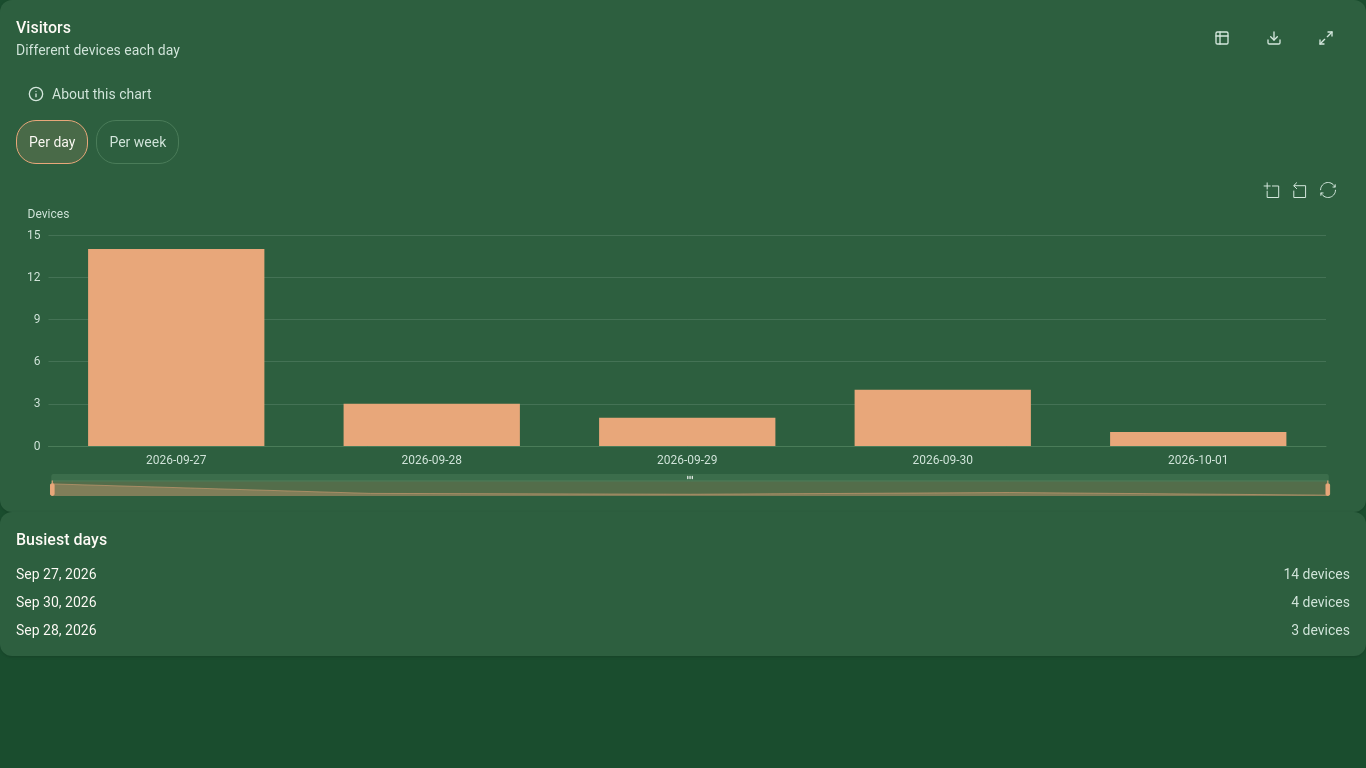
Test: VisitorsCard › charts devices per day with Table, CSV, fullscreen and an explainer, and lists the busiest days
The width and height of the screenshot is (1366, 768).
Expected: the button named "Table" is shown, [1198,16,1246,60]
Expected: the button named "CSV" is shown, [1250,16,1298,60]
Click the button "About this chart". click: {"x": 90, "y": 94}
box: [16,72,164,116]
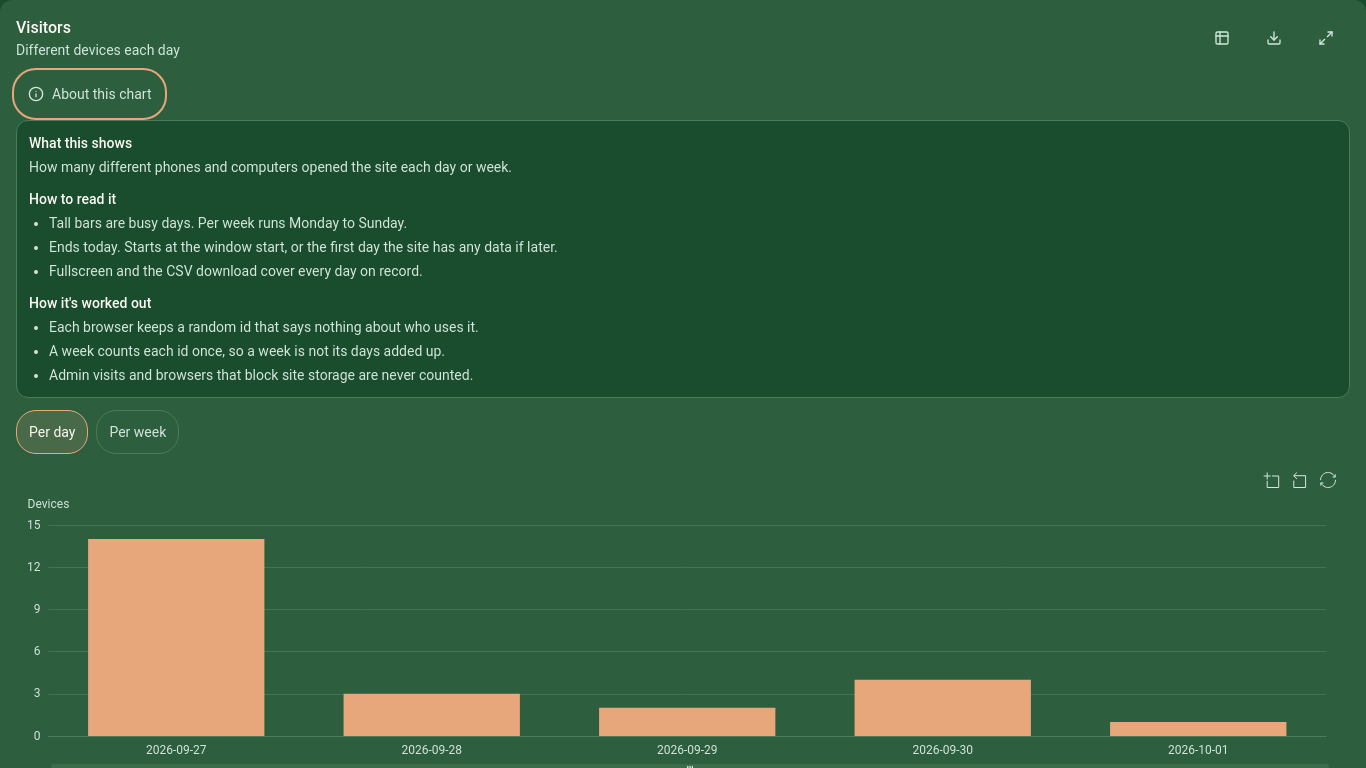
Result: the button "About this chart" is expanded
Result: the heading "What this shows" is shown at [29,135,132,151]
Result: the heading "How it's worked out" is shown at [29,295,151,311]
Click the button "About this chart". click: {"x": 90, "y": 94}
box: [16,72,164,116]
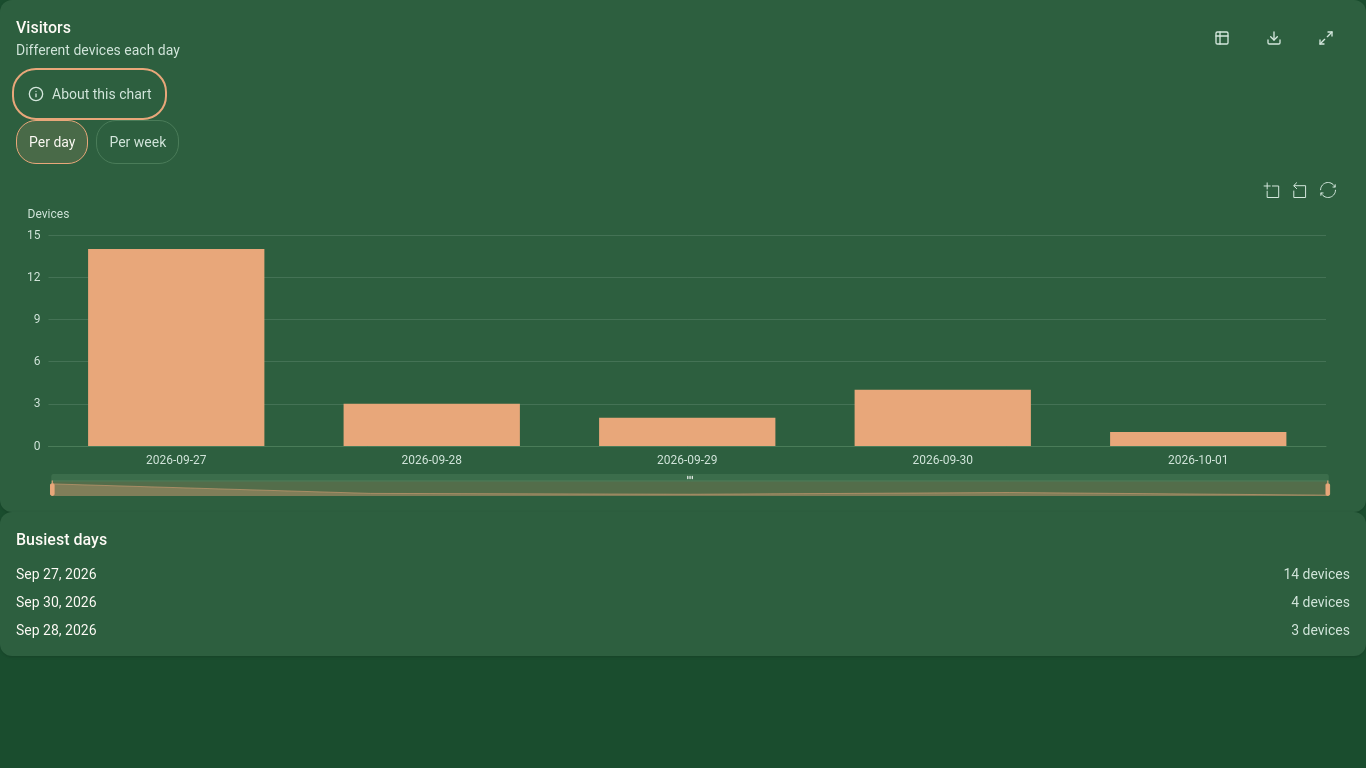
Expected: the list items read "Sep 27, 202614 devices", "Sep 30, 20264 devices", "Sep 28, 20263 devices", in this order, [16,564,1350,584]; [16,592,1350,612]; [16,620,1350,640]
Result: the heading "What this shows" is gone
